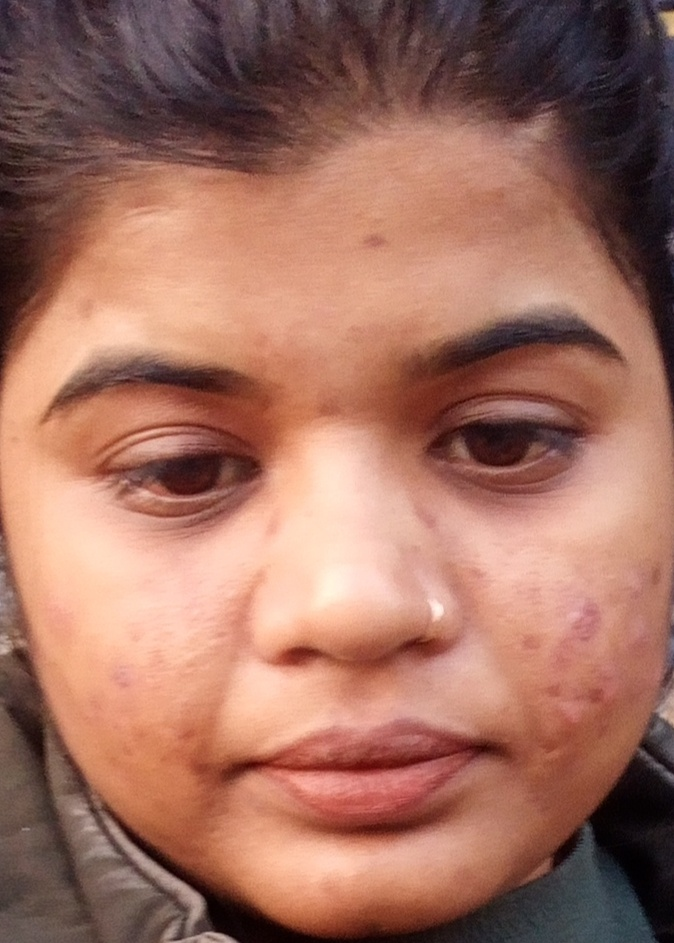papule: (553, 592, 622, 642), (101, 648, 152, 698), (550, 693, 592, 744), (617, 559, 658, 600), (364, 225, 399, 261)
